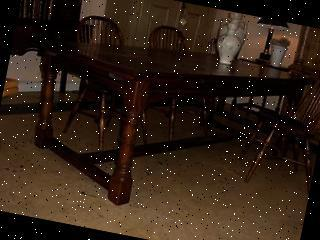Mesa: (8, 24, 307, 235)
Silla: (56, 11, 169, 161), (130, 22, 229, 155), (233, 54, 319, 197)
